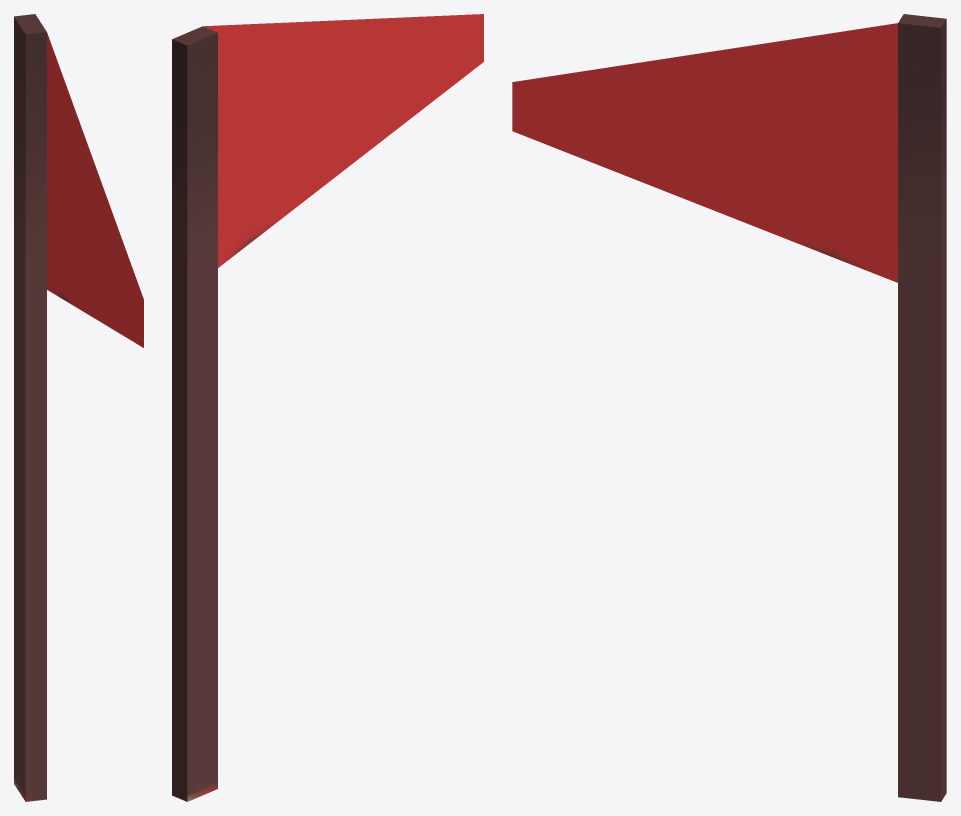
Rendered from flag.fbx.
The picture shows the model from 3 angles, left to right: view 1: azimuth 30°, elevation 25°; view 2: azimuth 150°, elevation 25°; view 3: azimuth 270°, elevation 25°; orthographic projection. The views are drawn at different scales.
Parts seen in each view (by area): view 1: flag:mesh_flag1; view 2: flag:mesh_flag1; view 3: flag:mesh_flag1.
Part boxes in pixels (x1,y1,x2,y2): flag:mesh_flag1: (14,14,143,801); flag:mesh_flag1: (172,14,483,801); flag:mesh_flag1: (512,14,946,801).
Bounding box in the file's own units: 0.0962 × 0.6788 × 0.3453.
